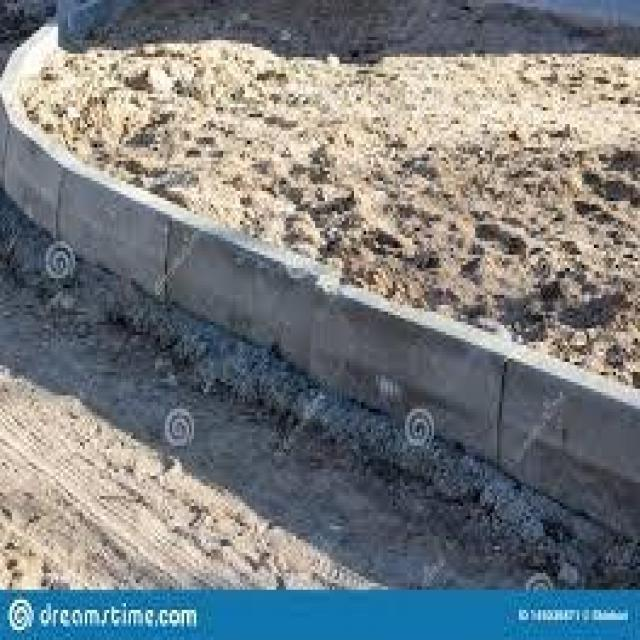curb: (399, 323, 638, 546), (198, 247, 403, 408), (70, 168, 226, 321), (1, 79, 61, 234)
